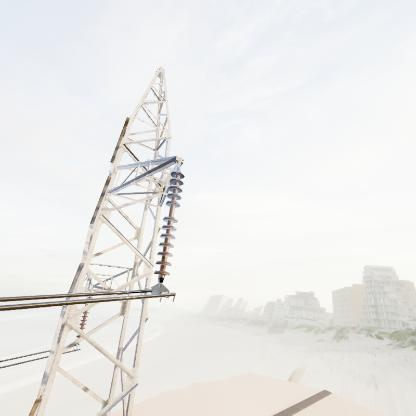insulator: (147, 168, 187, 281)
